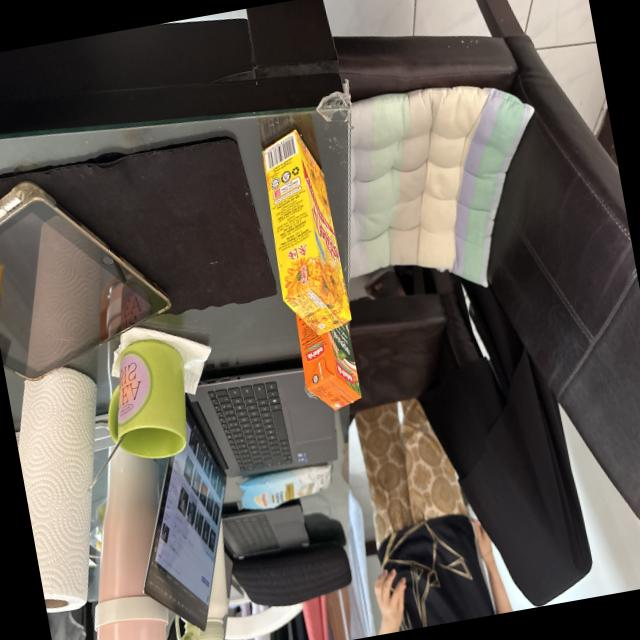drink_carton: (249, 118, 361, 352), (290, 302, 368, 426)
